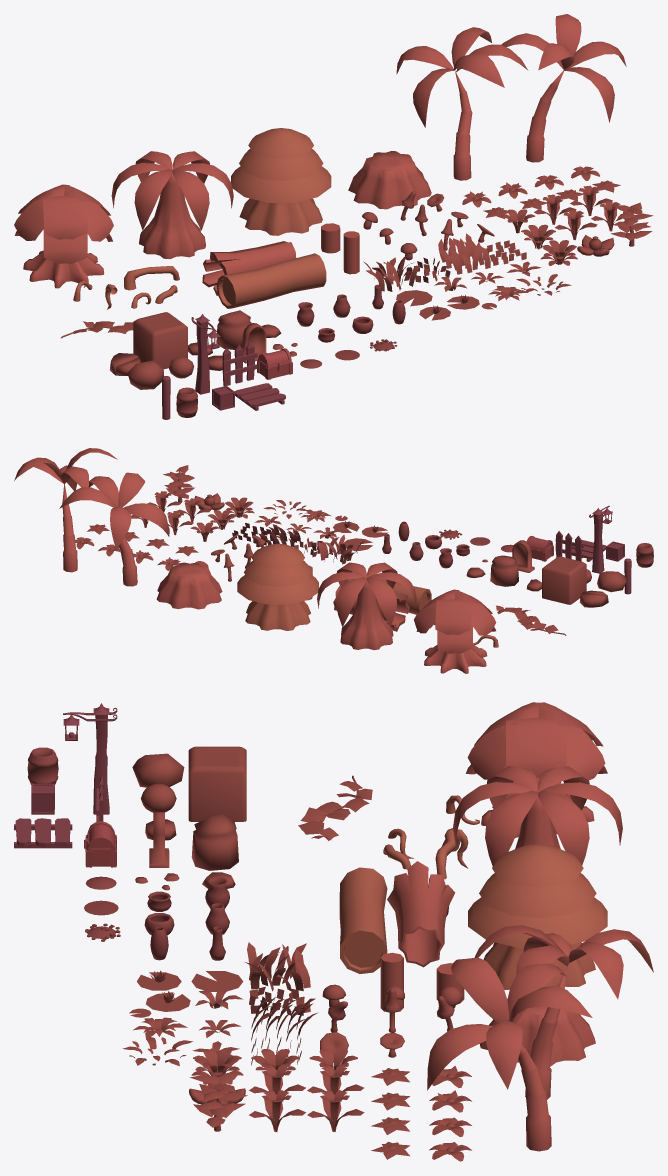
File: worldObjects.fbx
The picture shows the model from 3 angles, top to bottom: view 1: azimuth 30°, elevation 25°; view 2: azimuth 150°, elevation 25°; view 3: azimuth 270°, elevation 25°; orthographic projection. The views are drawn at different scales.
Visible parts, largest first — view 1: tree1, palm3, tree2, palm1, palm2, log2, stump, wall, log1, grass2, lamppost, fence (+11 smaller); view 2: tree1, palm3, tree2, palm1, stump, palm2, wall, roc6, lamppost, log2, grass8, plant5 (+10 smaller); view 3: tree1, palm2, palm3, tree2, palm1, log1, log2, wall, stump, roc6, grass8, lamppost (+21 smaller).
Part boxes in pixels (x1,y1,x2,y2): tree1: [231, 128, 331, 235]; palm3: [111, 151, 233, 258]; tree2: [14, 184, 113, 288]; palm1: [396, 27, 528, 180]; palm2: [501, 14, 626, 162]; log2: [216, 253, 326, 308]; stump: [348, 151, 431, 209]; wall: [133, 312, 187, 369]; log1: [202, 241, 296, 295]; grass2: [438, 233, 490, 274]; lamppost: [191, 314, 220, 394]; fence: [222, 341, 257, 386]; tree1: [237, 543, 318, 630]; palm3: [317, 562, 416, 650]; tree2: [414, 589, 496, 673]; palm1: [59, 472, 169, 586]; stump: [156, 562, 222, 609]; palm2: [14, 448, 117, 572]; wall: [542, 556, 586, 604]; roc6: [490, 555, 518, 586]; lamppost: [589, 505, 612, 573]; log2: [347, 571, 431, 614]; grass8: [318, 534, 364, 564]; plant5: [163, 465, 194, 502]; tree1: [468, 844, 607, 989]; palm2: [427, 957, 592, 1151]; palm3: [453, 766, 622, 866]; tree2: [466, 702, 607, 837]; palm1: [474, 925, 653, 1099]; log1: [387, 861, 455, 967]; log2: [339, 867, 387, 973]; wall: [188, 746, 246, 821]; stump: [480, 1006, 595, 1066]; roc6: [191, 814, 238, 870]; grass8: [245, 942, 310, 991]; lamppost: [63, 703, 117, 814].
Size of the model in its own units: 17.18 by 4.03 by 11.
